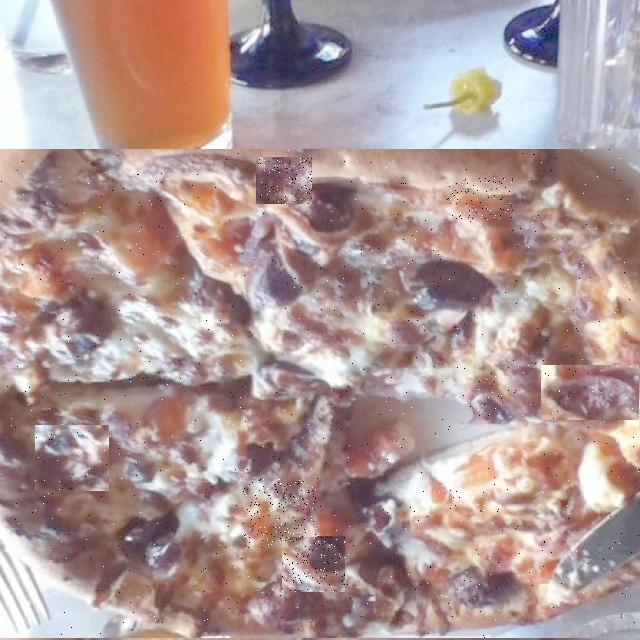Olives: (541, 366, 639, 420), (243, 479, 317, 549), (35, 426, 109, 491), (282, 537, 345, 592), (410, 484, 499, 522), (473, 358, 518, 420), (447, 178, 513, 220), (256, 158, 312, 204)
Pizza: (0, 150, 640, 639)
